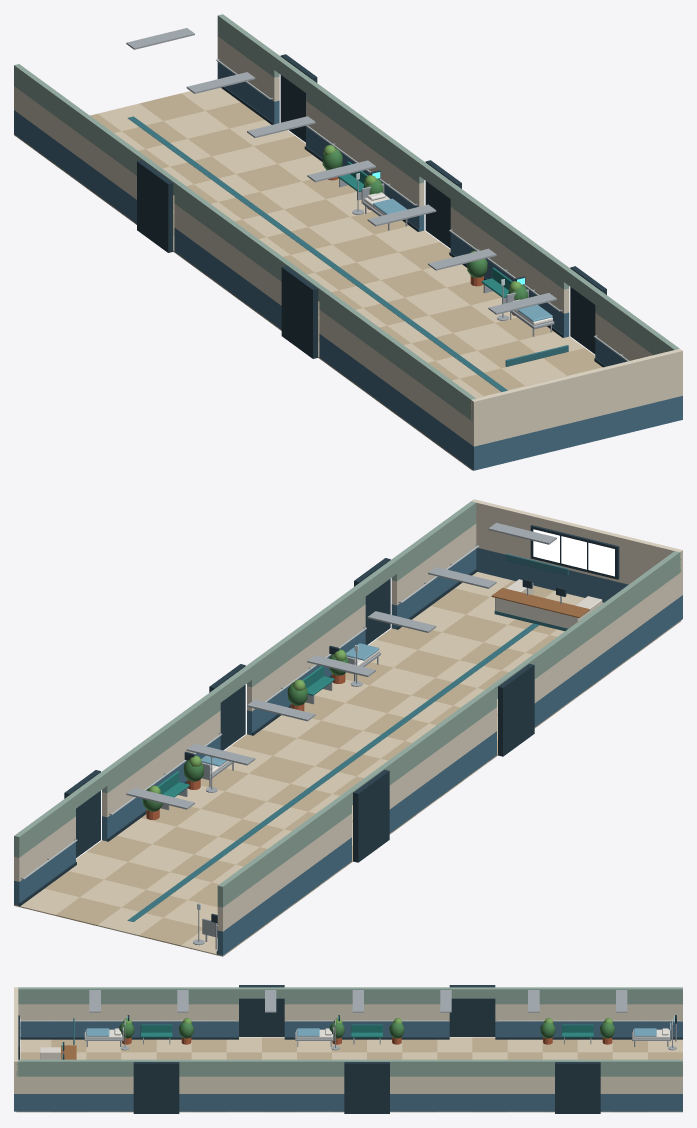
The model's file is hospital-world.glb.
3 views of the same model, one above another, from view 1: azimuth 30°, elevation 25°; view 2: azimuth 150°, elevation 25°; view 3: azimuth 270°, elevation 25° (orthographic). The views are drawn at different scales.
Visible parts, largest first — view 1: hospital-world; view 2: hospital-world; view 3: hospital-world.
Boxes of the visible parts, bbox=[...] form: hospital-world: bbox=[14, 14, 682, 470]; hospital-world: bbox=[14, 499, 682, 956]; hospital-world: bbox=[14, 985, 682, 1113].
Bounding box in the file's own units: 21.2 × 9.37 × 76.25.
